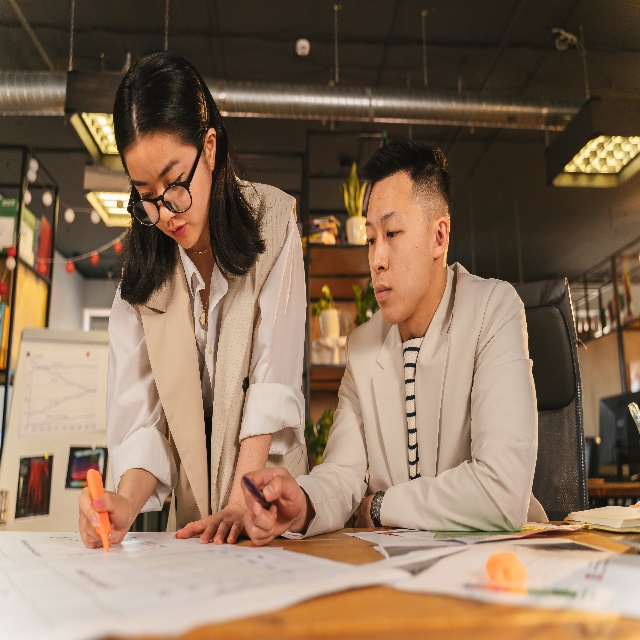Gafas: (126, 132, 206, 226)
Sin_guantes: (240, 466, 305, 546), (78, 486, 133, 550), (175, 504, 248, 544), (353, 493, 375, 527)
